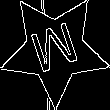M_S: (26, 18, 84, 81)
